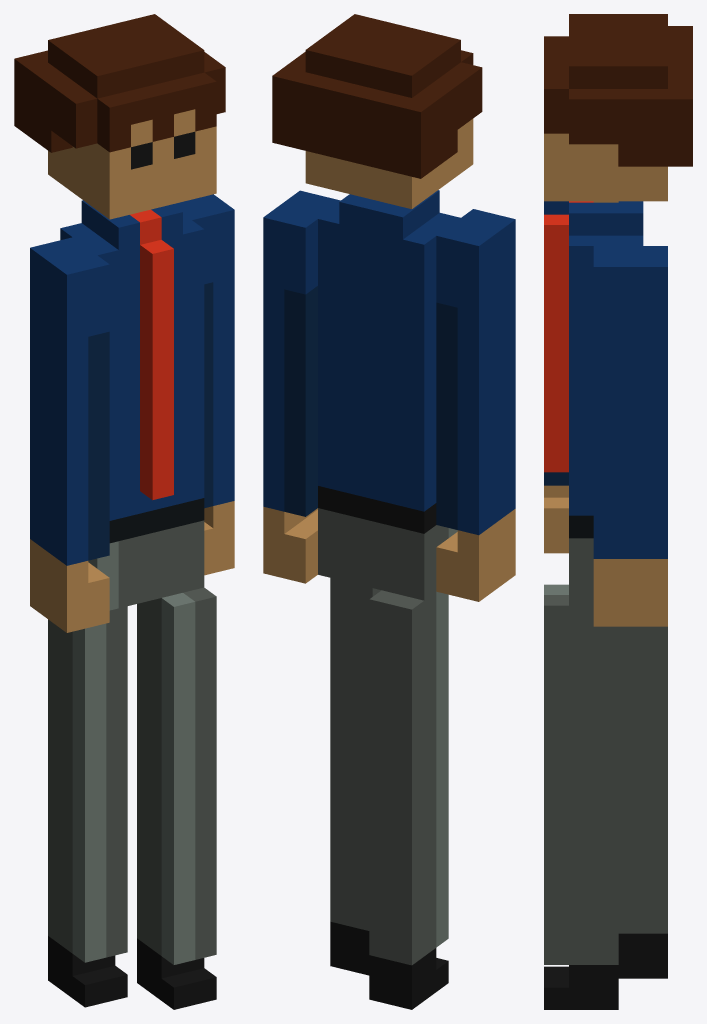
Rendered from Tony_Ethn2_Walking1.obj.
3 views of the same model, side by side, from view 1: azimuth 30°, elevation 25°; view 2: azimuth 150°, elevation 25°; view 3: azimuth 270°, elevation 25° (orthographic).
Parts seen in each view (by area): view 1: Tony_Ethn2_Walking1; view 2: Tony_Ethn2_Walking1; view 3: Tony_Ethn2_Walking1.
Boxes of the visible parts, bbox=[...] form: Tony_Ethn2_Walking1: bbox=[14, 14, 234, 1009]; Tony_Ethn2_Walking1: bbox=[263, 14, 515, 1009]; Tony_Ethn2_Walking1: bbox=[544, 14, 692, 1009].
Bounding box in the file's own units: 9 × 42 × 6.
Materials: 1 (1 with a texture image).
